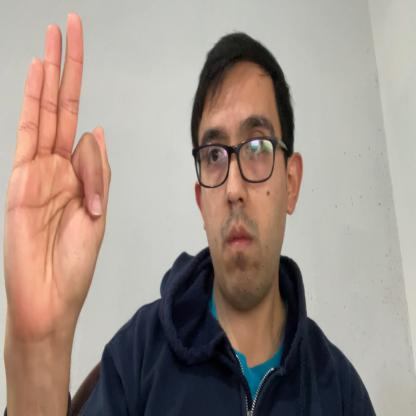F: (4, 11, 111, 330)
